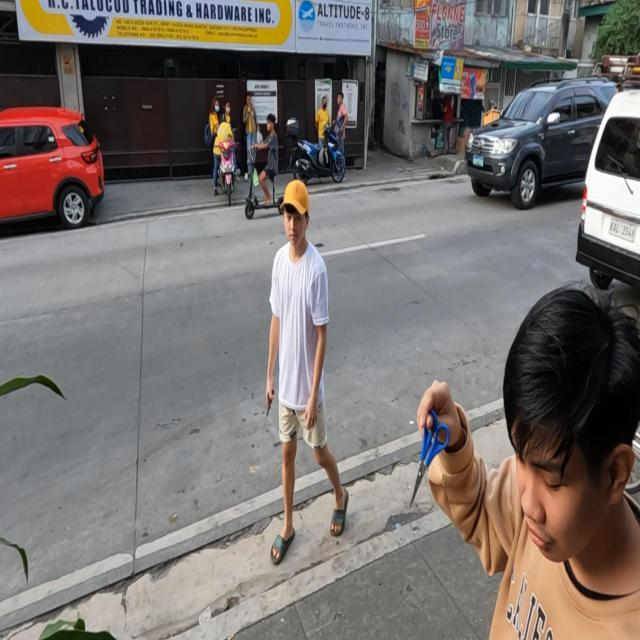scissor: (409, 408, 451, 510), (262, 388, 274, 428)
